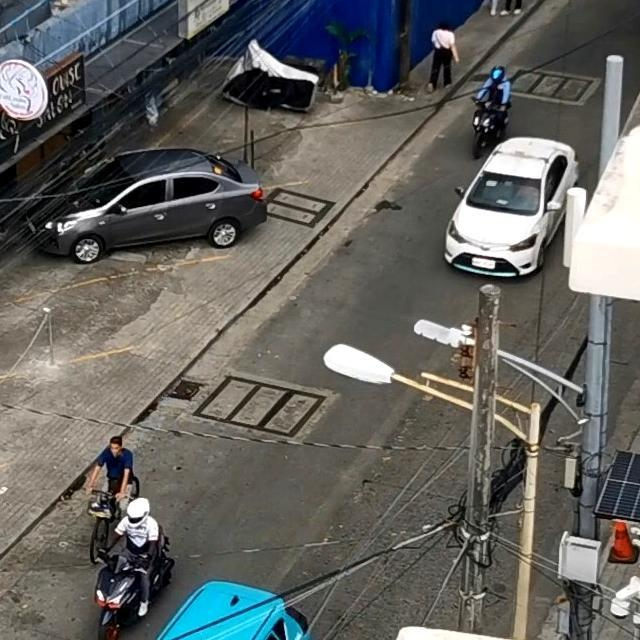Car: (32, 148, 258, 261), (441, 136, 574, 274), (61, 579, 307, 640)
